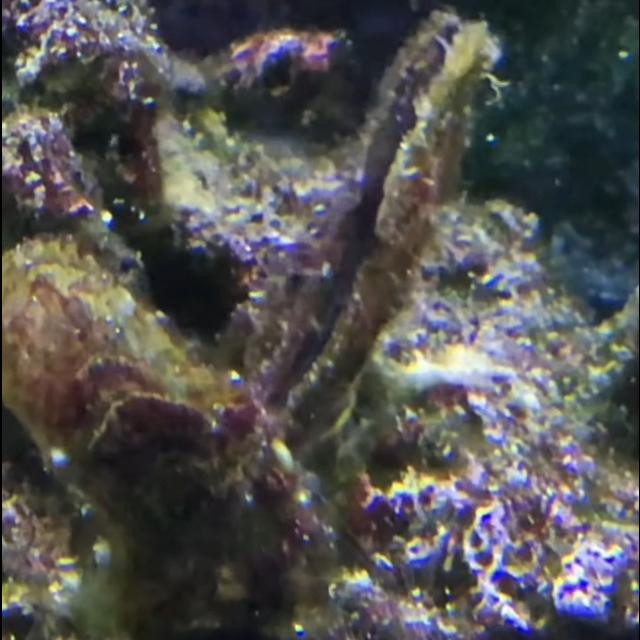Oyster-Closed: (2, 240, 300, 602)
Oyster-Open: (217, 9, 498, 461)
